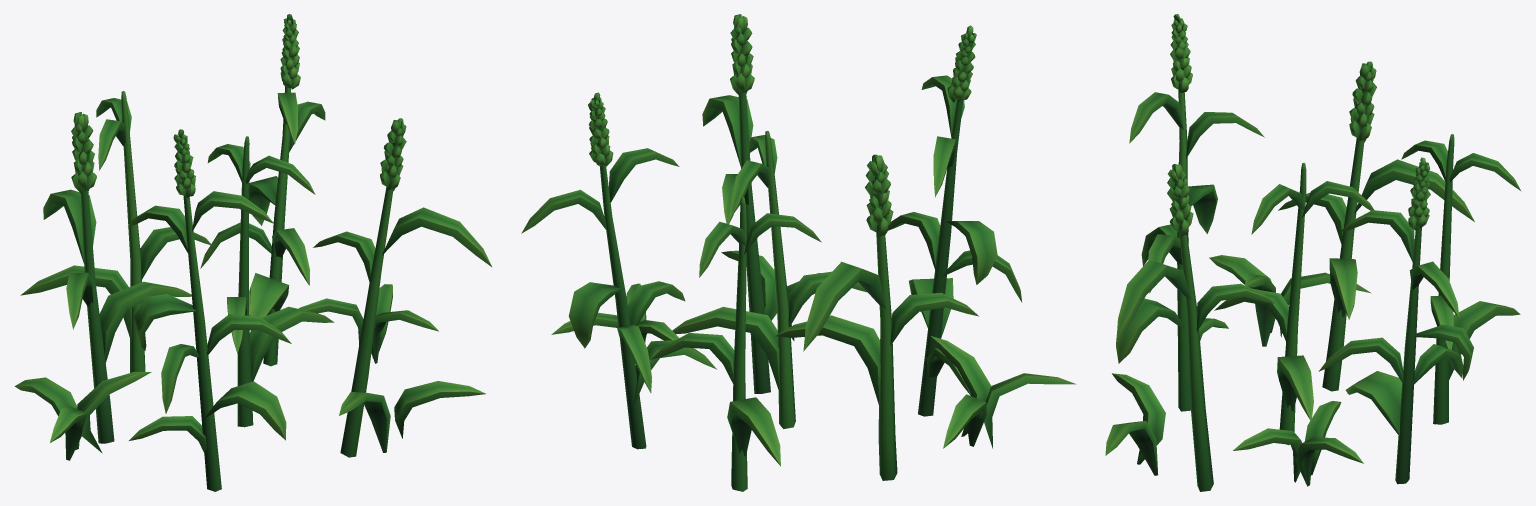
File: SM_Plant_Wheat_Lv2.fbx
The picture shows the model from 3 angles, left to right: view 1: azimuth 30°, elevation 25°; view 2: azimuth 150°, elevation 25°; view 3: azimuth 270°, elevation 25°; orthographic projection. The views are drawn at different scales.
Visible parts, largest first — view 1: SM_Plant_Wheat_Lv2; view 2: SM_Plant_Wheat_Lv2; view 3: SM_Plant_Wheat_Lv2.
Boxes of the visible parts, bbox=[...] form: SM_Plant_Wheat_Lv2: bbox=[14, 14, 491, 491]; SM_Plant_Wheat_Lv2: bbox=[521, 14, 1076, 491]; SM_Plant_Wheat_Lv2: bbox=[1105, 14, 1521, 491].
Size of the model in its own units: 71.33 by 62.11 by 60.7.
